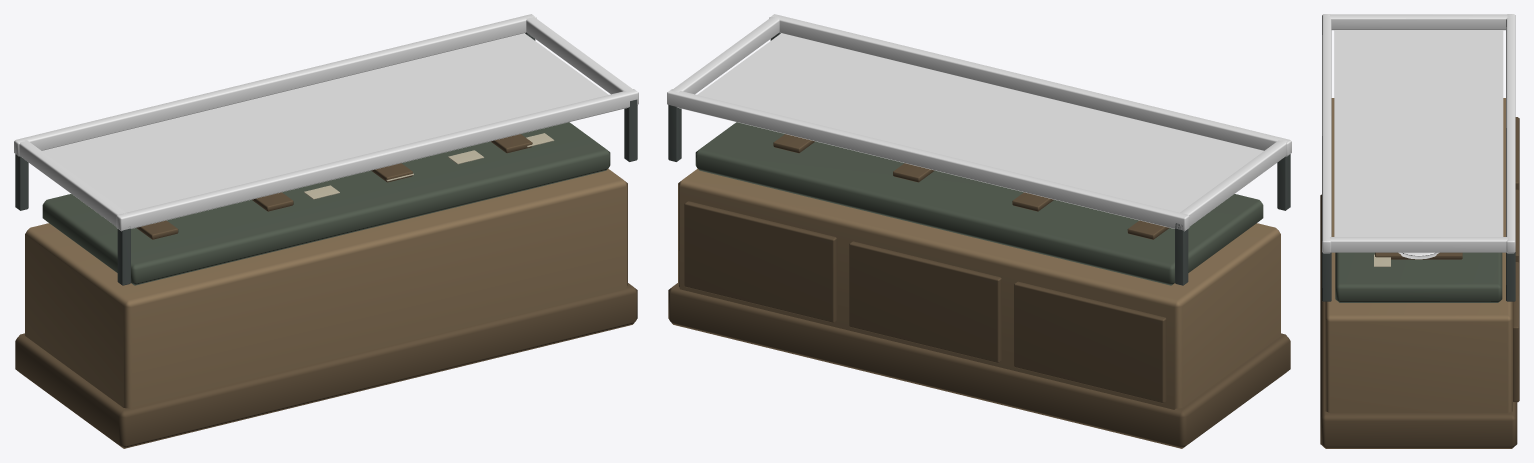
Rendered from PawnDisplay_Watches62.fbx.
3 renders of one model, left to right at view 1: azimuth 30°, elevation 25°; view 2: azimuth 150°, elevation 25°; view 3: azimuth 270°, elevation 25°, orthographic. The views are drawn at different scales.
Parts seen in each view (by area): view 1: PawnDisplay_Watches62; view 2: PawnDisplay_Watches62; view 3: PawnDisplay_Watches62.
Boxes of the visible parts, x1,y1,x2,y2 form: PawnDisplay_Watches62: (14,14,638,448); PawnDisplay_Watches62: (667,14,1291,448); PawnDisplay_Watches62: (1320,14,1519,448).
Bounding box in the file's own units: 252 × 108 × 93.05.
